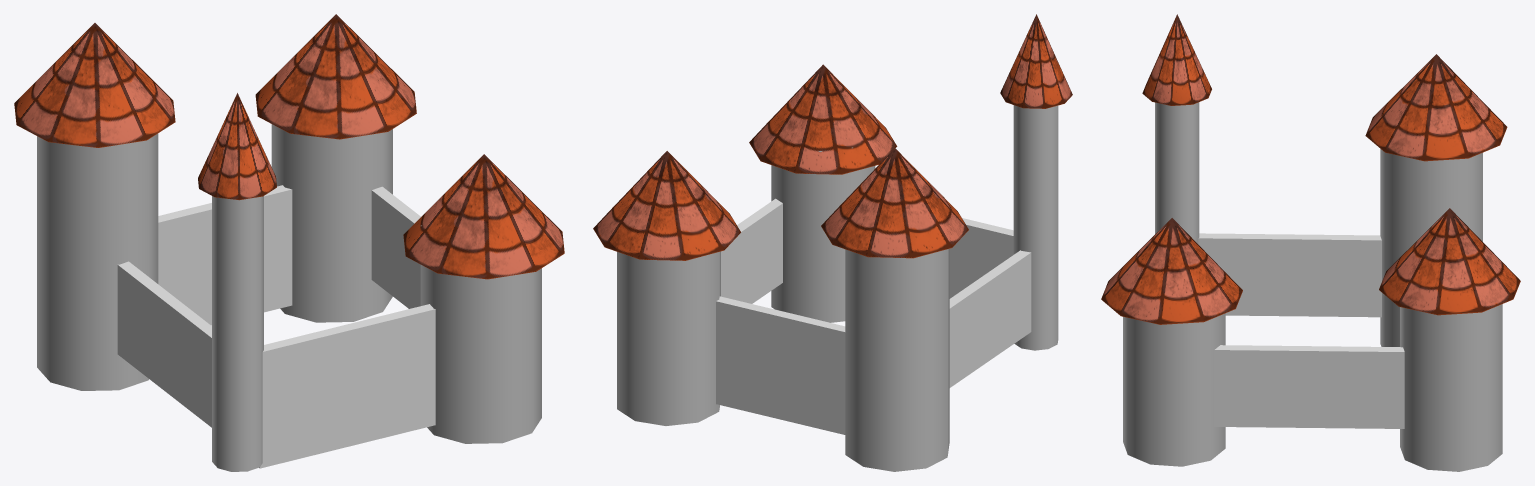
Rendered from castle.fbx.
The picture shows the model from 3 angles, left to right: view 1: azimuth 30°, elevation 25°; view 2: azimuth 150°, elevation 25°; view 3: azimuth 270°, elevation 25°; orthographic projection. The views are drawn at different scales.
Parts seen in each view (by area): view 1: Cone.001; view 2: Cone.001; view 3: Cone.001.
Part boxes in pixels (x1,y1,x2,y2): Cone.001: (14, 14, 564, 471); Cone.001: (593, 14, 1072, 471); Cone.001: (1101, 14, 1520, 471).
Size of the model in its own units: 654 by 612 by 707.
